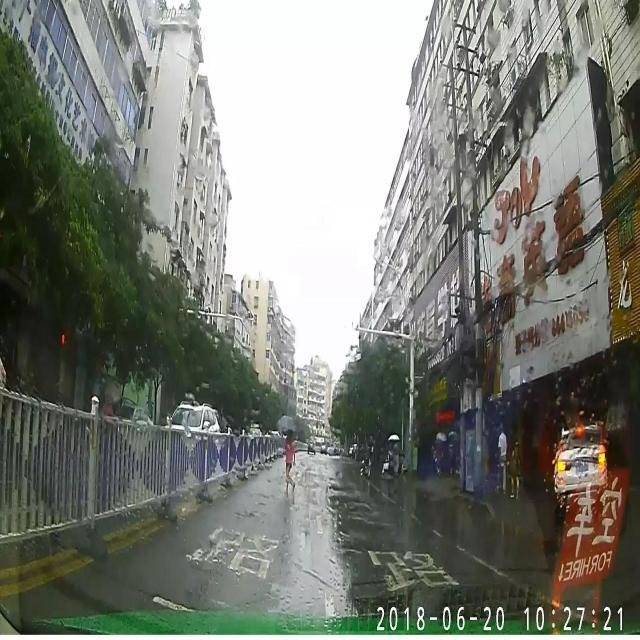car: (552, 420, 610, 504), (160, 400, 222, 478)
